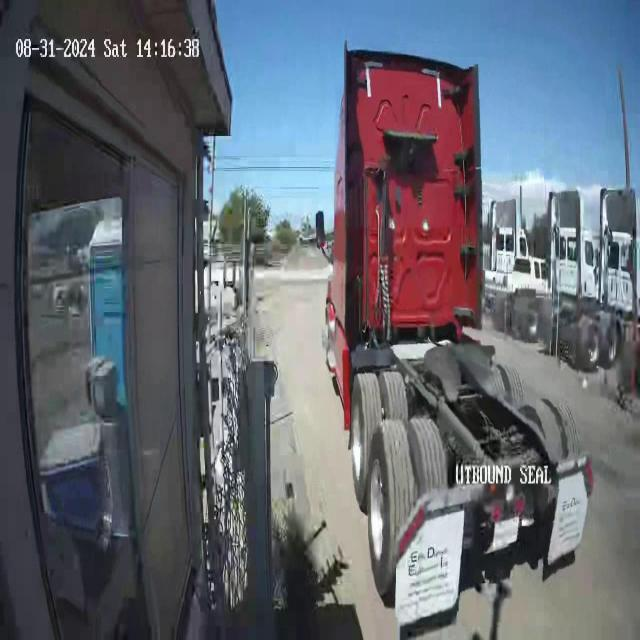TRUCK_OUT: (320, 39, 484, 430)
